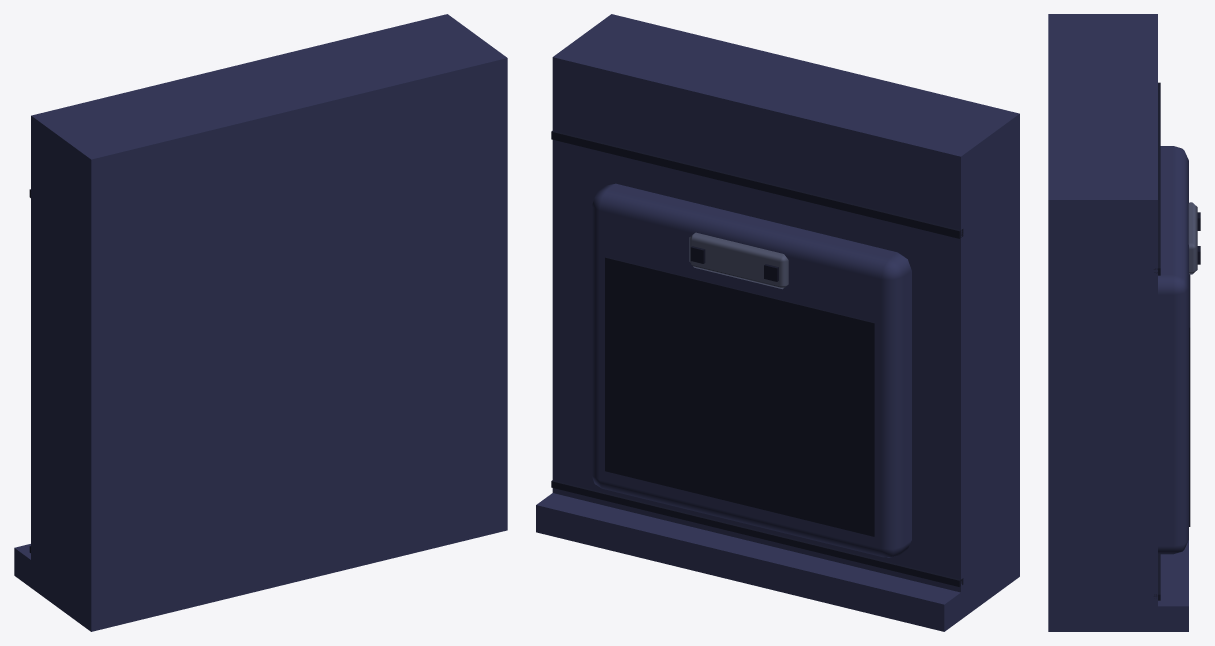
File: hull.upper.straight.l1.000.s0.glb
3 renders of one model, left to right at view 1: azimuth 30°, elevation 25°; view 2: azimuth 150°, elevation 25°; view 3: azimuth 270°, elevation 25°, orthographic. The views are drawn at different scales.
Parts seen in each view (by area): view 1: hull.upper.straight.l1.000.s0; view 2: hull.upper.straight.l1.000.s0; view 3: hull.upper.straight.l1.000.s0.
Part boxes in pixels (x1,y1,x2,y2): hull.upper.straight.l1.000.s0: (14,14,507,631); hull.upper.straight.l1.000.s0: (536,14,1019,631); hull.upper.straight.l1.000.s0: (1048,14,1200,631).
Bounding box in the file's own units: 1 × 1.08 × 0.347.
